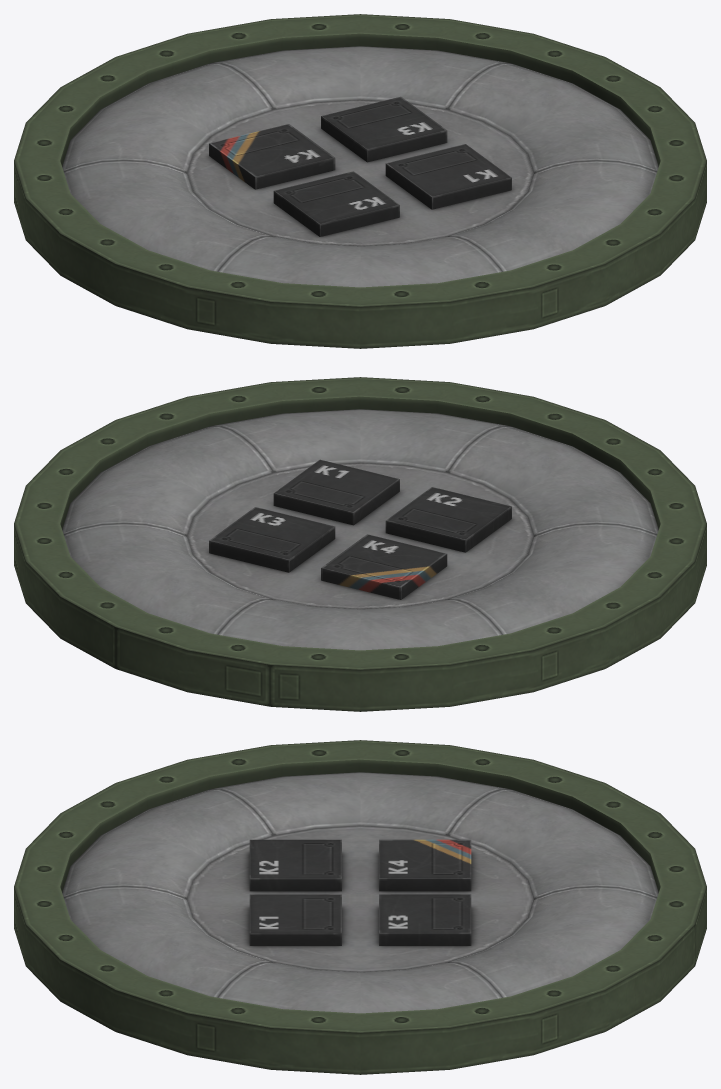
File: flat control.obj
The picture shows the model from 3 angles, top to bottom: view 1: azimuth 30°, elevation 25°; view 2: azimuth 150°, elevation 25°; view 3: azimuth 270°, elevation 25°; orthographic projection.
Visible parts, largest first — view 1: 1; view 2: 1; view 3: 1.
Part boxes in pixels (bbox=[...]): 1: bbox=[14, 14, 706, 348]; 1: bbox=[14, 377, 706, 711]; 1: bbox=[14, 740, 706, 1074].
Size of the model in its own units: 1.88 by 0.15 by 1.88.
1 material, 1 textured.
